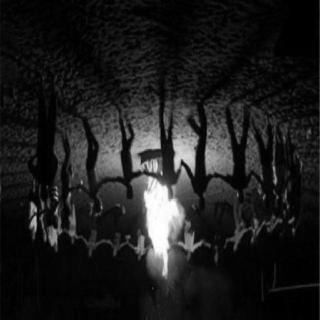Fire: (133, 162, 184, 290)
